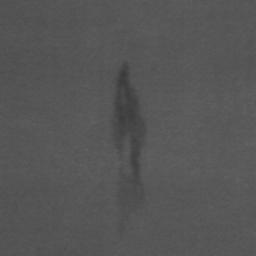Iron scale compression: (112, 62, 146, 206)
